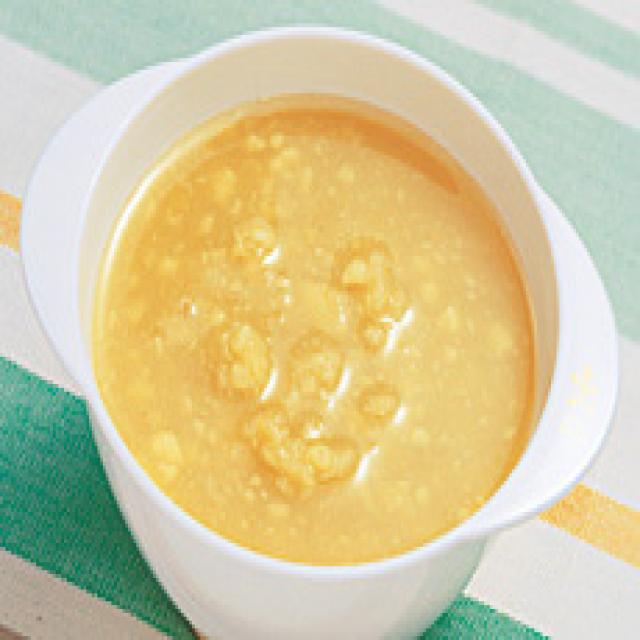汤锅炖物: (3, 4, 623, 640)
